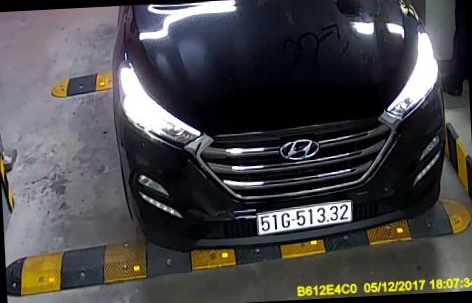plate: (248, 197, 357, 234)
